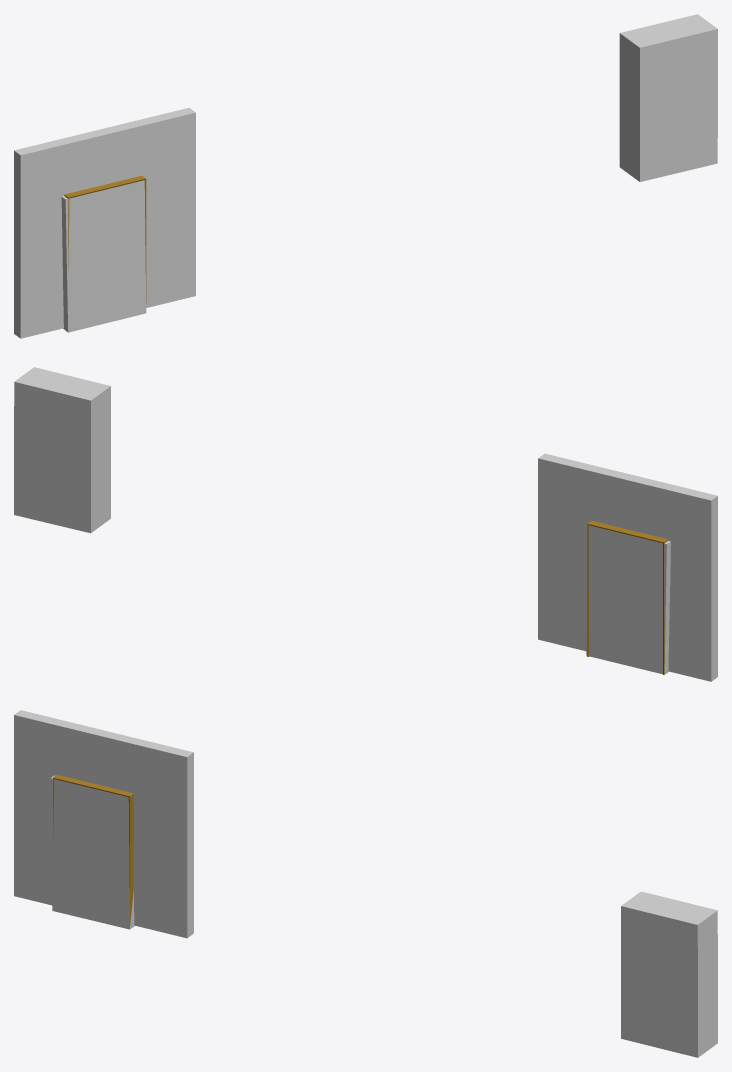
The model's file is room1_2doors7.fbx.
The picture shows the model from 3 angles, top to bottom: view 1: azimuth 30°, elevation 25°; view 2: azimuth 150°, elevation 25°; view 3: azimuth 330°, elevation 25°; orthographic projection.
Parts seen in each view (by area): view 1: Cube.001, Cube, Cube.003, Cube.002; view 2: Cube.001, Cube, Cube.003, Cube.002; view 3: Cube.001, Cube, Cube.003, Cube.002.
Part boxes in pixels (bbox=[...]): Cube.001: bbox=[14, 108, 195, 338]; Cube: bbox=[619, 14, 717, 181]; Cube.003: bbox=[61, 180, 146, 332]; Cube.002: bbox=[64, 175, 146, 302]; Cube.001: bbox=[538, 453, 717, 681]; Cube: bbox=[14, 367, 110, 533]; Cube.003: bbox=[586, 525, 670, 674]; Cube.002: bbox=[587, 520, 668, 674]; Cube.001: bbox=[14, 710, 193, 938]; Cube: bbox=[621, 891, 717, 1057]; Cube.003: bbox=[50, 775, 134, 929]; Cube.002: bbox=[53, 774, 133, 928].
Bounding box in the file's own units: 1189 × 302 × 65.88.
